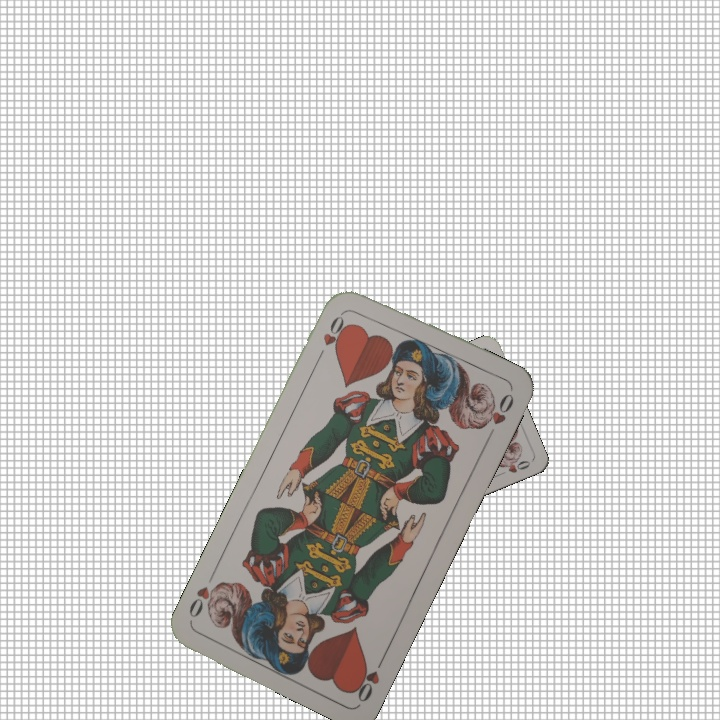HO: (349, 650, 389, 705), (313, 307, 352, 362)
